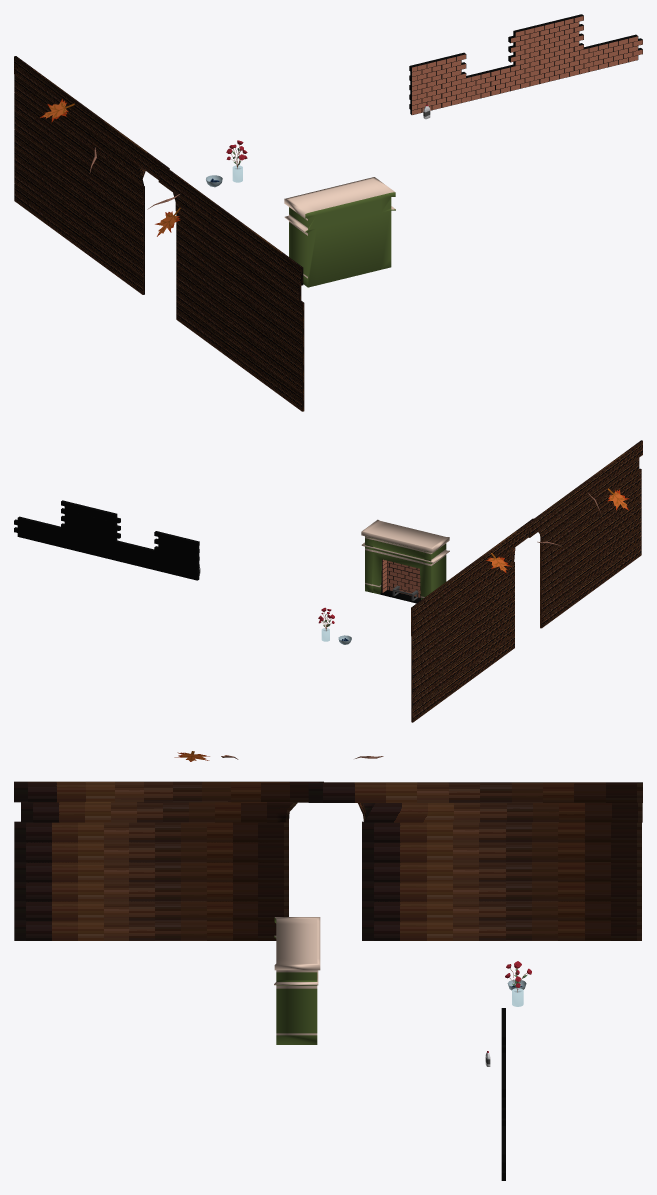
The model's file is InsideHouseStuff_2.glb.
The picture shows the model from 3 angles, top to bottom: view 1: azimuth 30°, elevation 25°; view 2: azimuth 150°, elevation 25°; view 3: azimuth 270°, elevation 25°; orthographic projection. The views are drawn at different scales.
Parts seen in each view (by area): view 1: Planks, Cube.164, Rose.002; view 2: Planks, Cube.164, Rose.002, Cube.065; view 3: Planks, Rose.002, Cube.164.
Boxes of the visible parts, bbox=[...] form: Planks: bbox=[14, 56, 304, 411]; Cube.164: bbox=[409, 14, 642, 114]; Rose.002: bbox=[284, 177, 395, 287]; Planks: bbox=[411, 440, 642, 722]; Cube.164: bbox=[14, 500, 199, 580]; Rose.002: bbox=[361, 519, 449, 603]; Cube.065: bbox=[381, 559, 420, 597]; Planks: bbox=[14, 781, 642, 940]; Rose.002: bbox=[274, 917, 320, 1044]; Cube.164: bbox=[501, 1008, 505, 1180].
Size of the model in its own units: 11.55 by 2.81 by 9.17.
8 materials, 7 textured.
